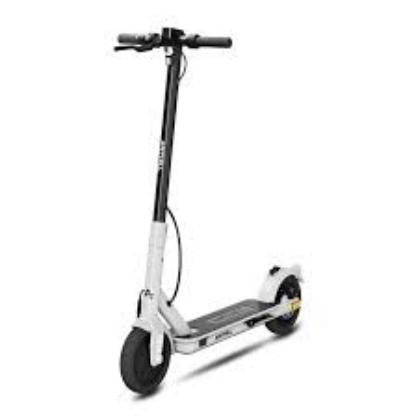bike: (116, 26, 306, 398)
